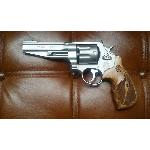Pistol: (18, 34, 146, 116)
